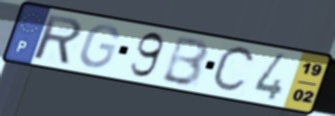4: (251, 51, 289, 103)
9: (128, 31, 166, 79)
B: (159, 34, 212, 88)
C: (209, 44, 259, 95)
G: (77, 24, 121, 70)
R: (33, 12, 85, 67)
